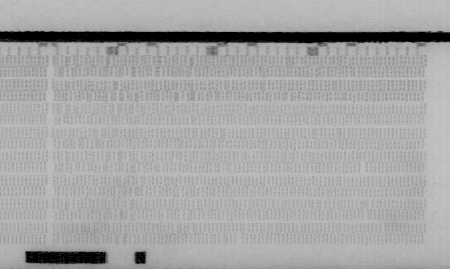Broken hole: (232, 232, 244, 245), (359, 162, 369, 174)
Oblique printing: (58, 127, 143, 245), (55, 54, 206, 106), (359, 199, 375, 220), (256, 78, 271, 93), (345, 64, 359, 79), (281, 89, 294, 101)
